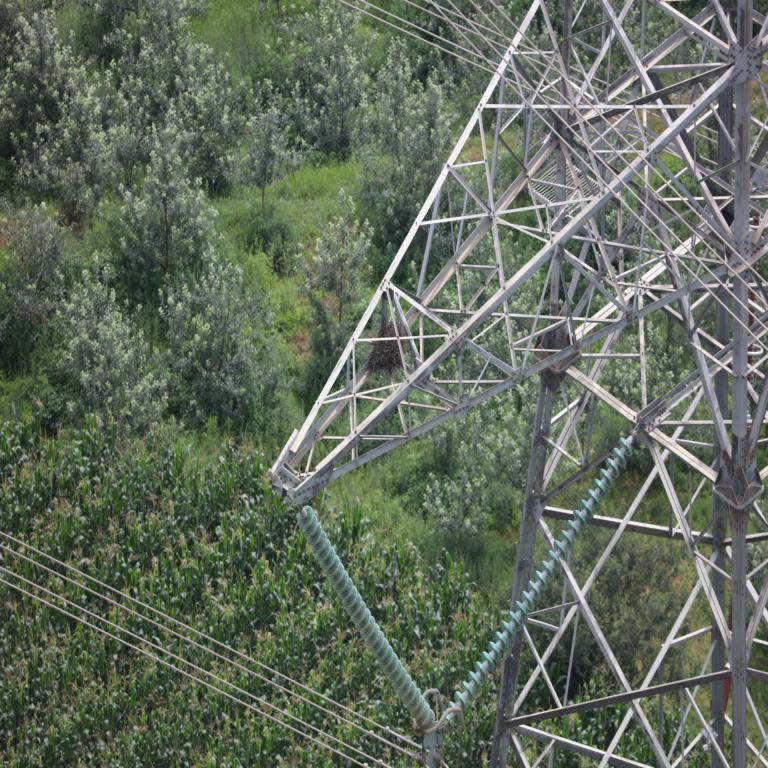nest: (370, 323, 407, 371)
